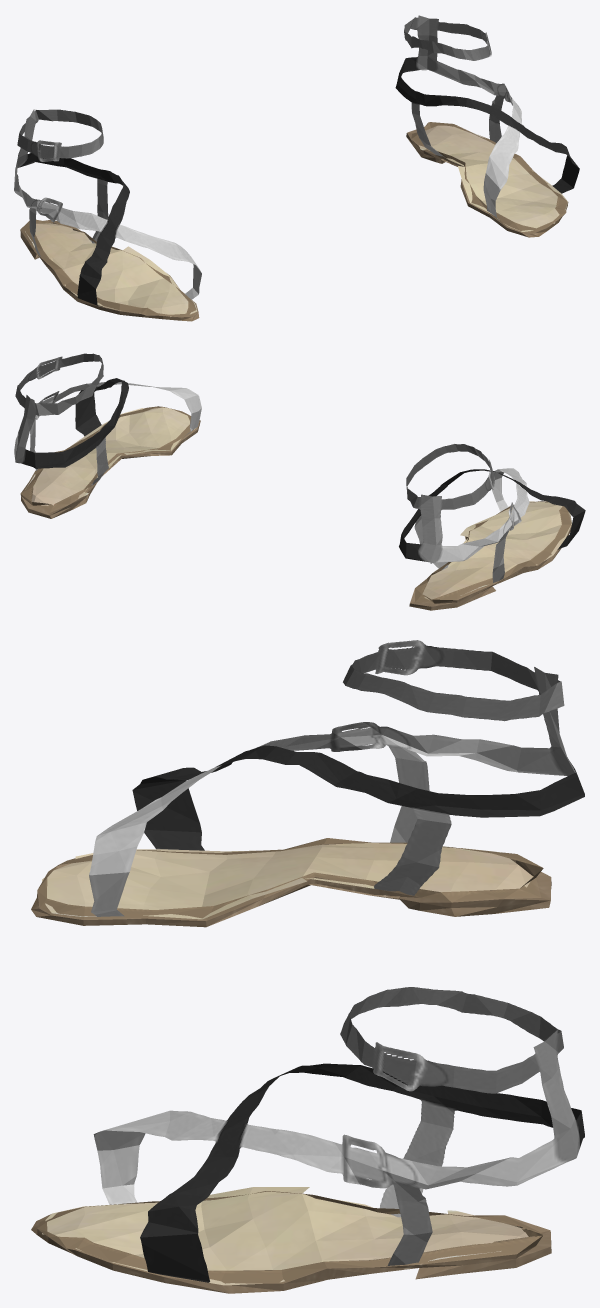
File: mhw_dressupdoc_sandals1.glb
3 renders of one model, top to bottom at view 1: azimuth 30°, elevation 25°; view 2: azimuth 150°, elevation 25°; view 3: azimuth 270°, elevation 25°, orthographic. The views are drawn at different scales.
Parts seen in each view (by area): view 1: mhw_dressupdoc_sandals1; view 2: mhw_dressupdoc_sandals1; view 3: mhw_dressupdoc_sandals1.
Boxes of the visible parts, <box> form: mhw_dressupdoc_sandals1: <box>14,15,579,321</box>; mhw_dressupdoc_sandals1: <box>14,353,585,610</box>; mhw_dressupdoc_sandals1: <box>31,640,584,1293</box>.
Bounding box in the file's own units: 0.5392 × 0.1377 × 0.2873.
1 material, 1 textured.
